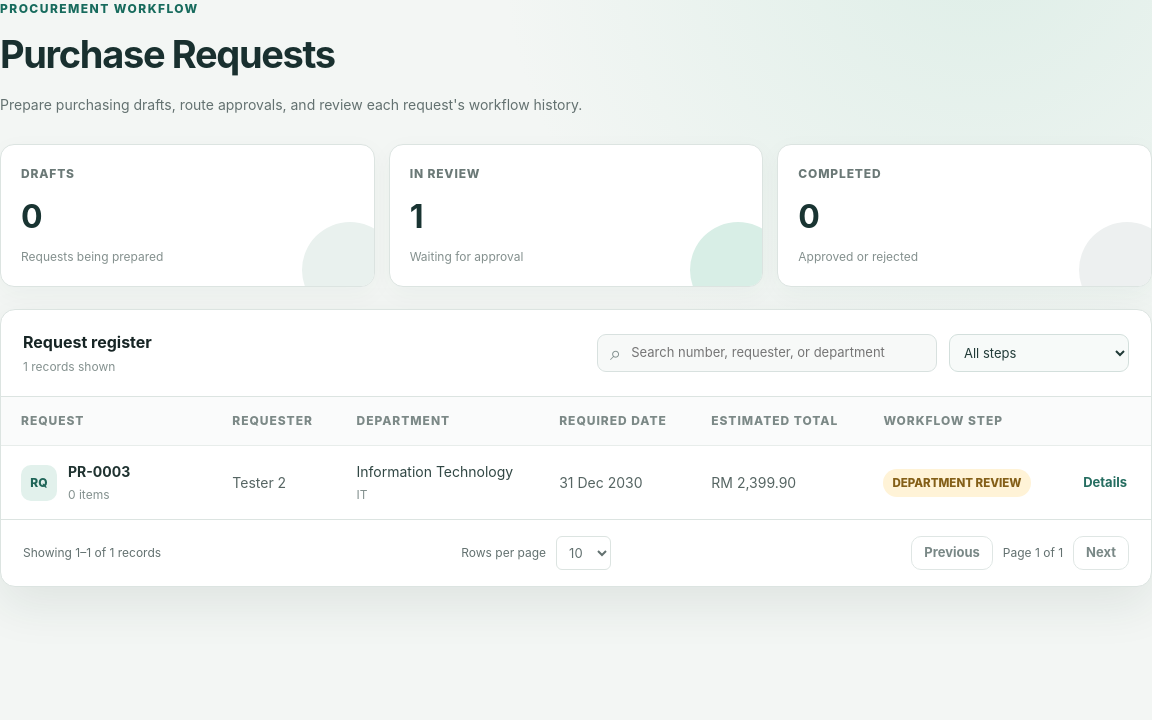
Test: PurchaseRequestListView › uses the authenticated approver identity for workflow actions
Click the button "Details". click: (1105, 483)
box: [1079,469,1131,496]
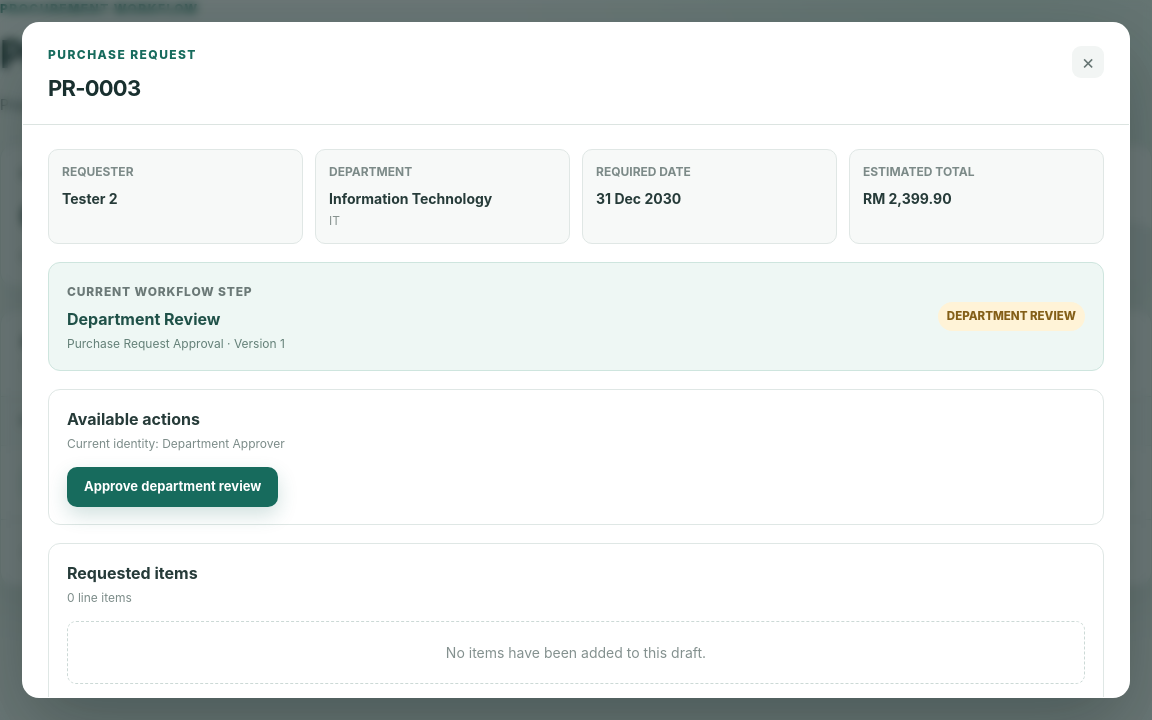
expect the element with class "workflow-actions-panel" shows "Current identity: Department Approver": met, box [67,436,285,451]
expect the button "Approve department review" is enabled: met, box [67,467,278,507]
